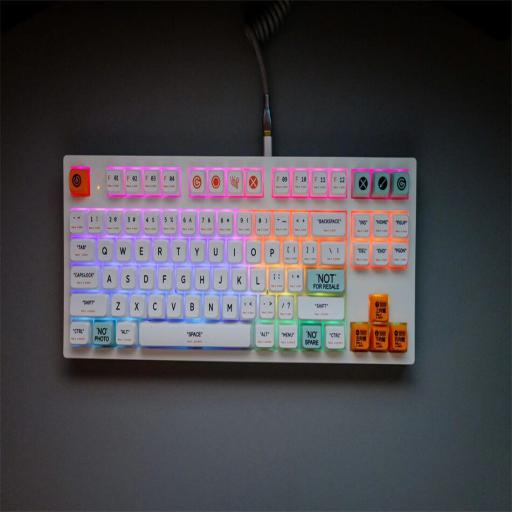KEYBOARD-2: (63, 155, 416, 364)
